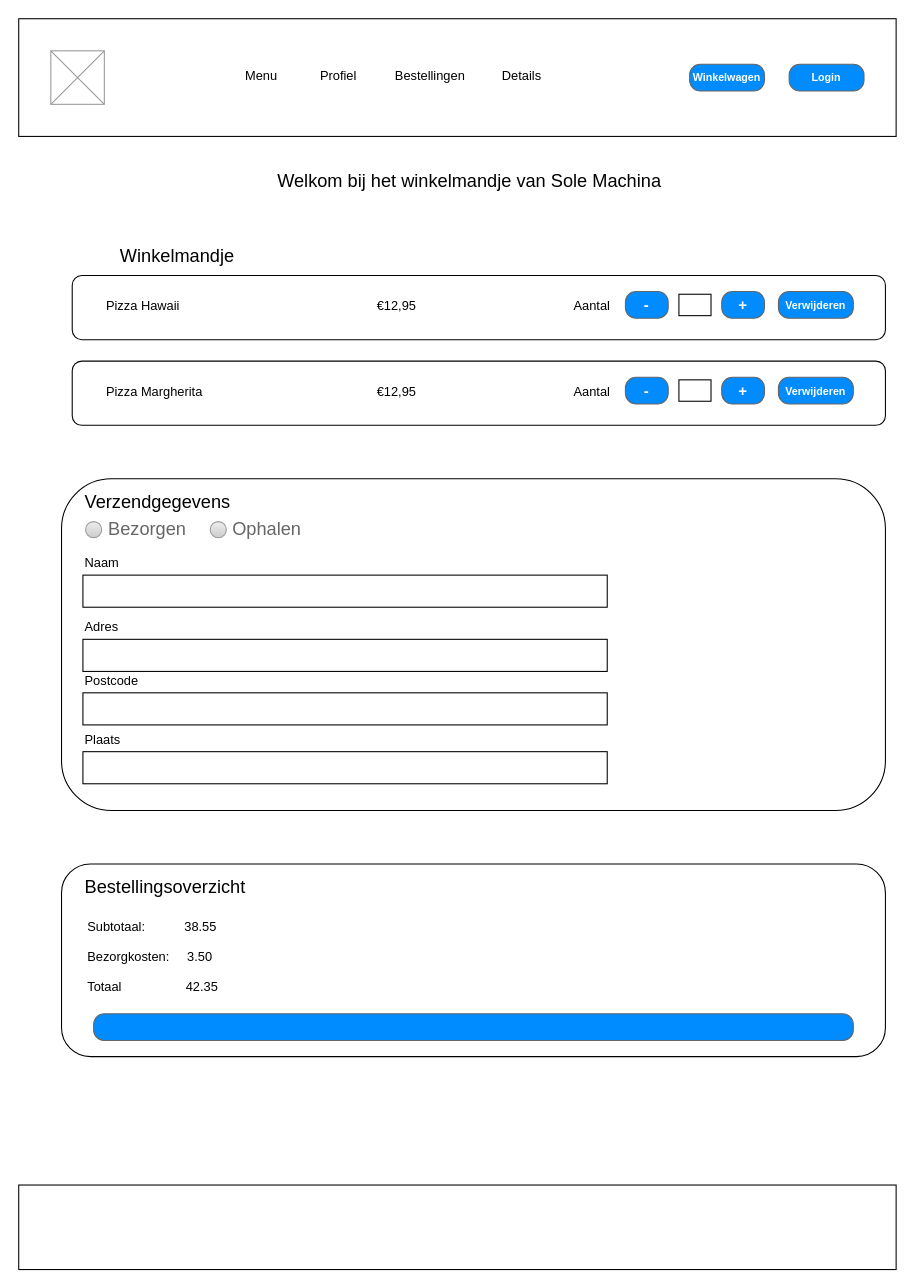
Image size: 915x1288. Some labels were removed from this diagram. Here are the shapes that lost their labels. From the top down, the centre of each, then its label:
point (473, 1027): Bestelling plaatsen
point (457, 1227): Privacy ..............
